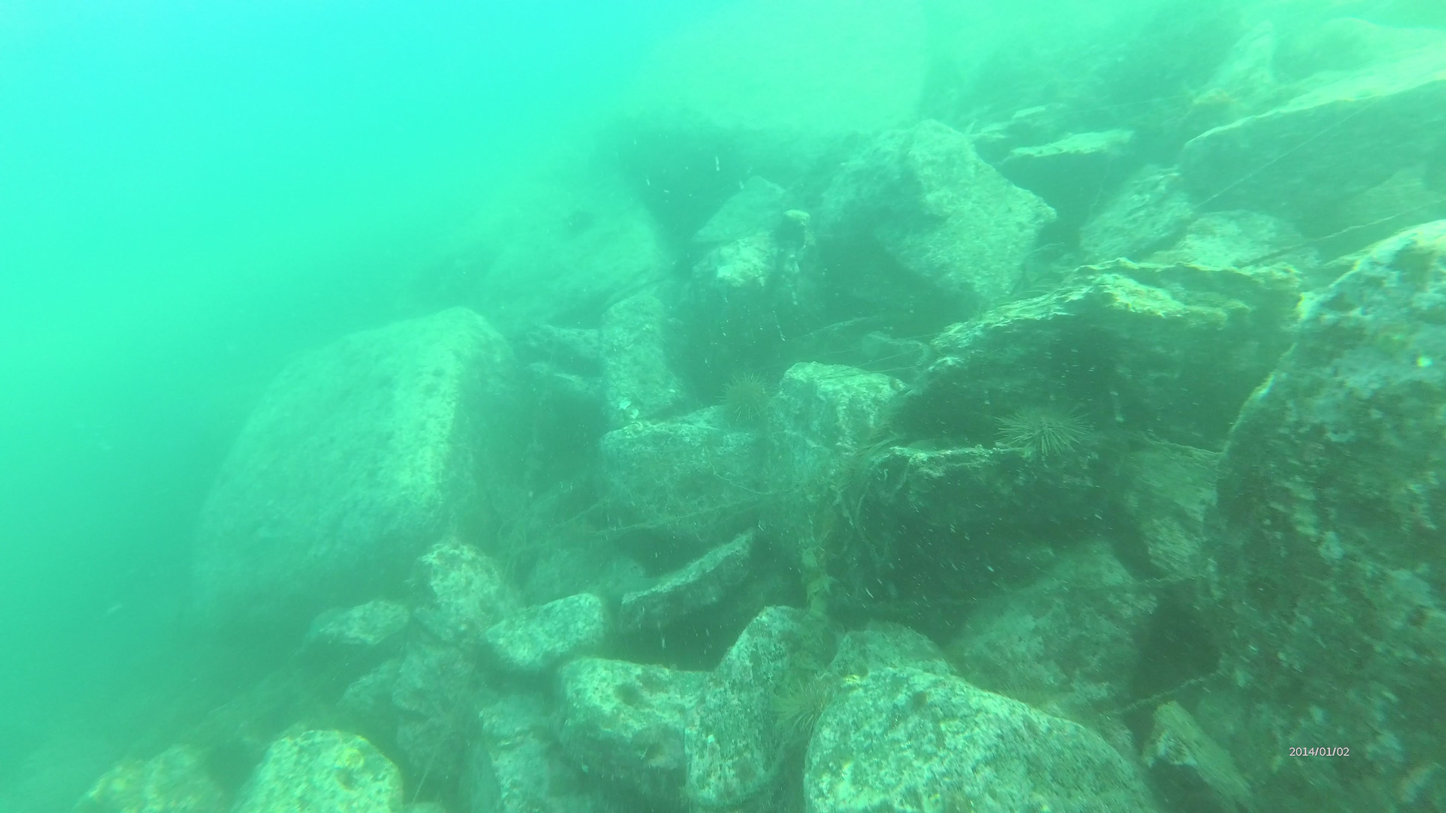starfish: (993, 394, 1109, 467), (763, 667, 832, 752), (718, 373, 784, 431), (560, 213, 595, 248)
